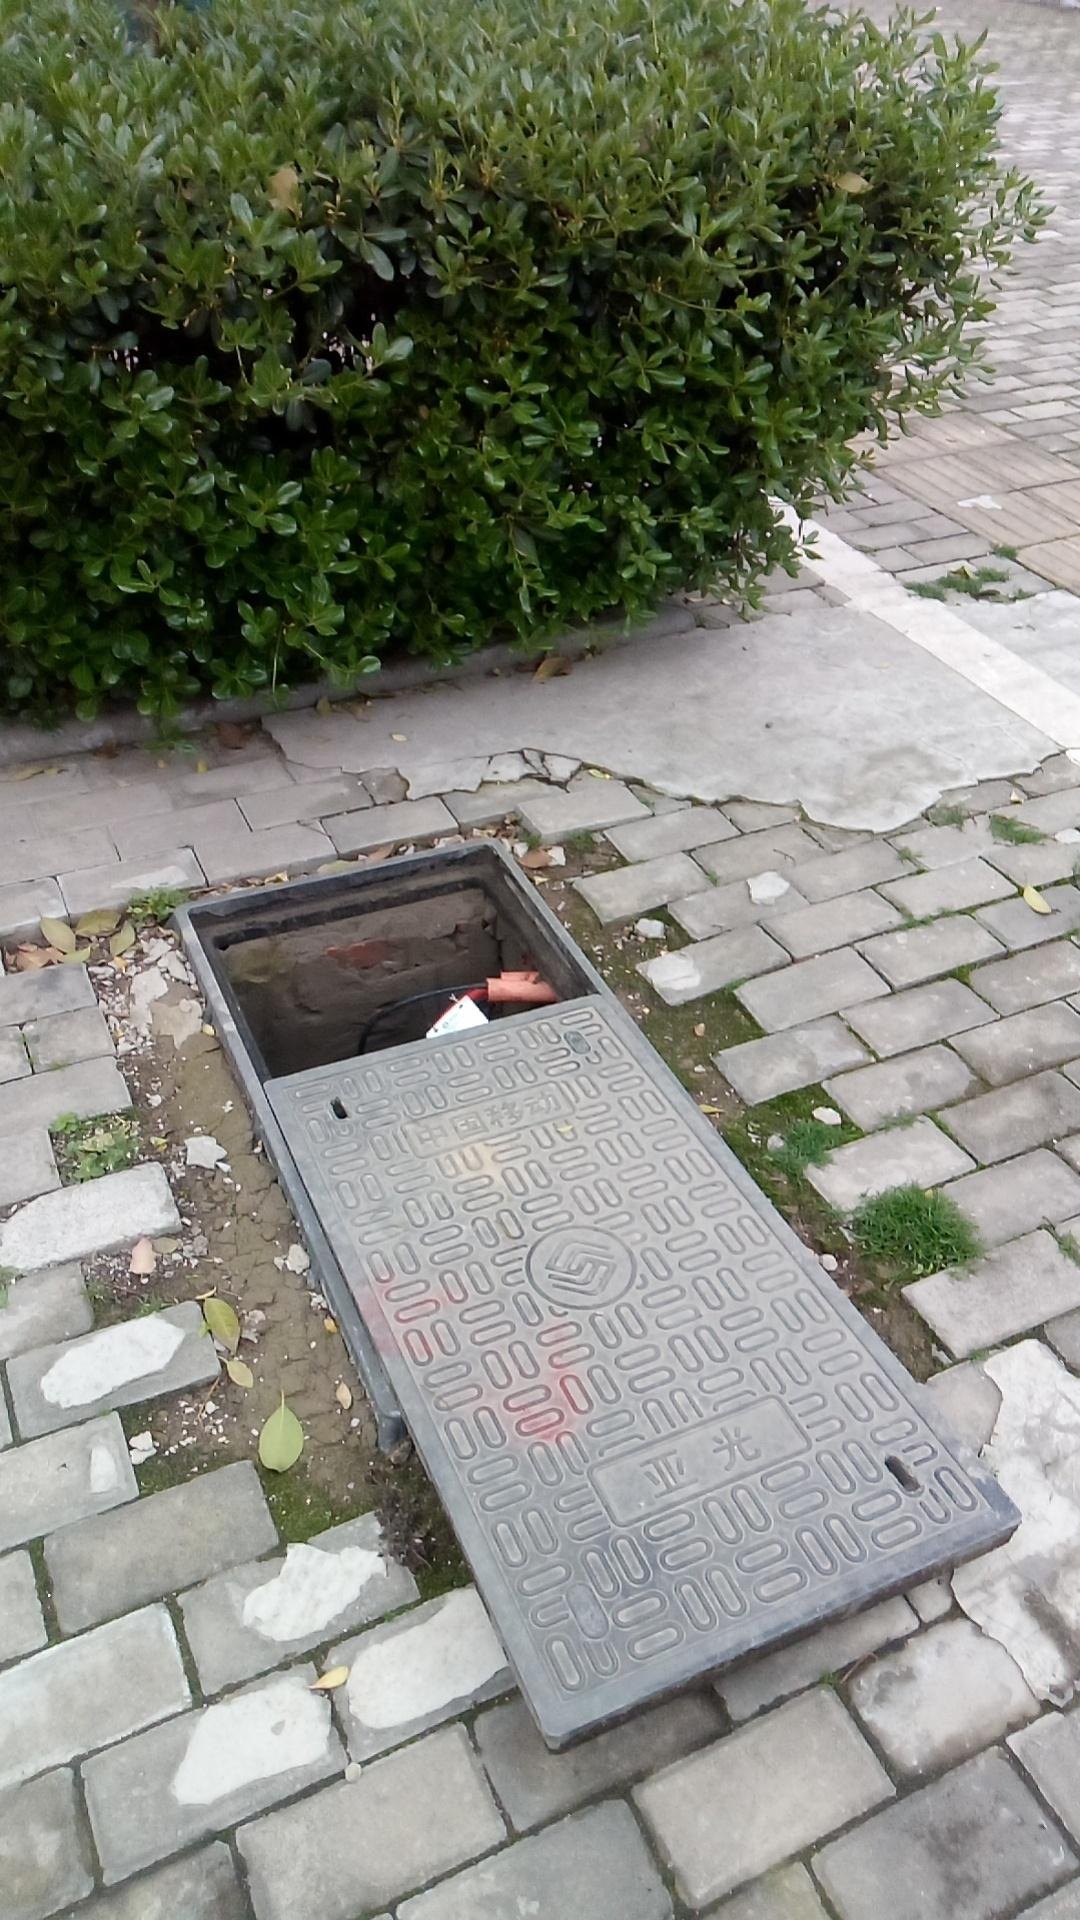wellcover: (178, 837, 997, 1753)
